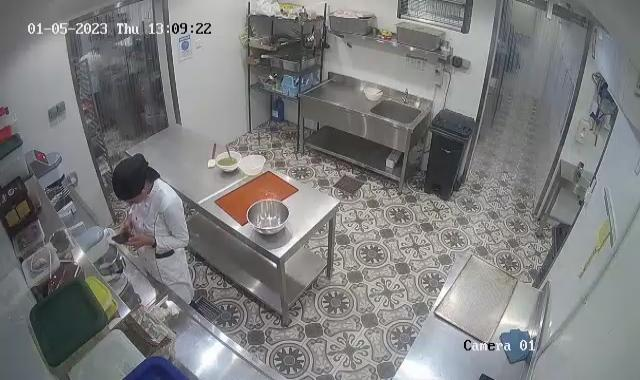no_hairnet: (113, 154, 147, 208)
